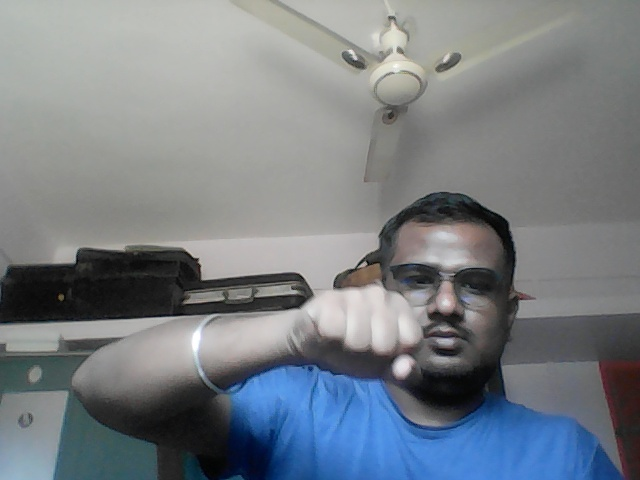Yes: (290, 284, 427, 393)
